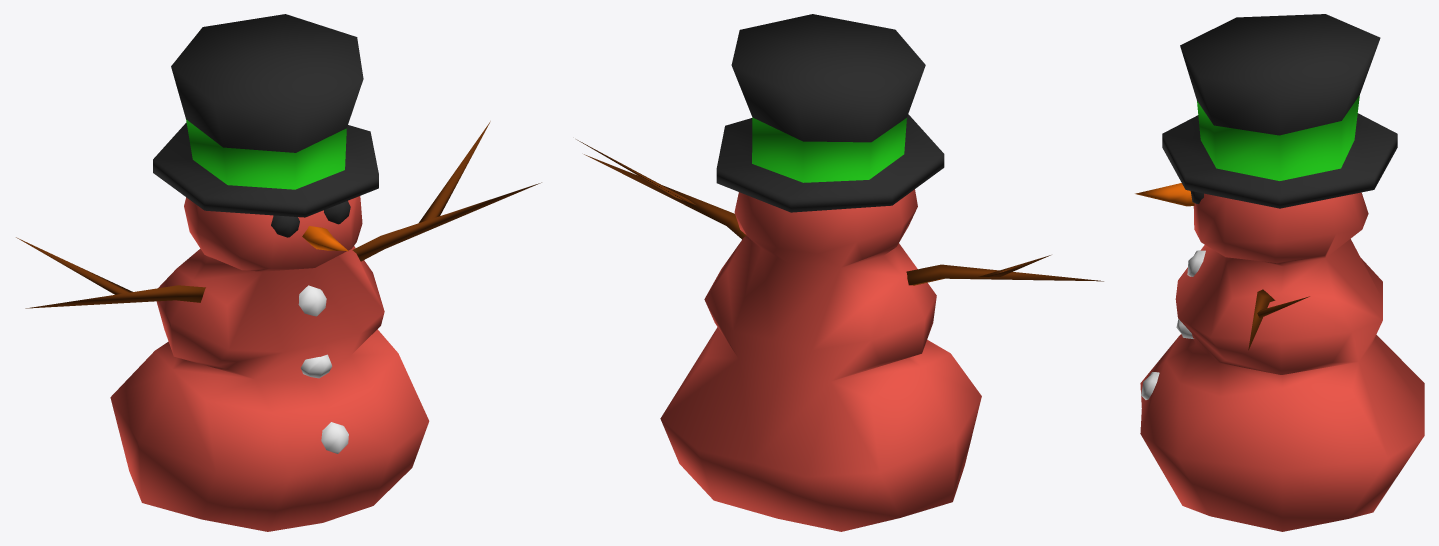
The model's file is showman.fbx.
3 views of the same model, side by side, from view 1: azimuth 30°, elevation 25°; view 2: azimuth 150°, elevation 25°; view 3: azimuth 270°, elevation 25° (orthographic).
Parts seen in each view (by area): view 1: SnowMan; view 2: SnowMan; view 3: SnowMan.
Part boxes in pixels (bbox=[...]): SnowMan: bbox=[16, 14, 541, 531]; SnowMan: bbox=[576, 14, 1103, 531]; SnowMan: bbox=[1135, 14, 1424, 531].
Bounding box in the file's own units: 155 × 126 × 73.73.
